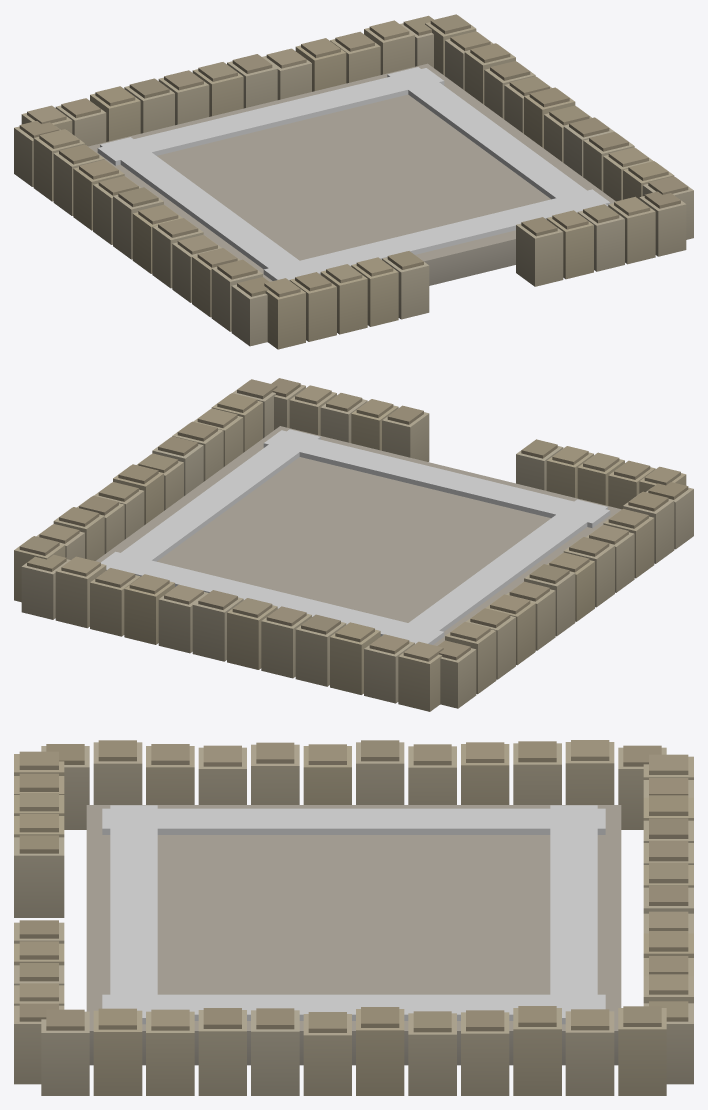
File: m_turret_284f89e1.glb
3 views of the same model, one above another, from view 1: azimuth 30°, elevation 25°; view 2: azimuth 150°, elevation 25°; view 3: azimuth 270°, elevation 25° (orthographic). The views are drawn at different scales.
Parts seen in each view (by area): view 1: mesh; view 2: mesh; view 3: mesh.
Boxes of the visible parts, left/top/right/bottom form: mesh: left=14, top=14, right=693, bottom=349; mesh: left=14, top=378, right=693, bottom=711; mesh: left=14, top=740, right=693, bottom=1095.
Bounding box in the file's own units: 43.11 × 4.98 × 43.11.
